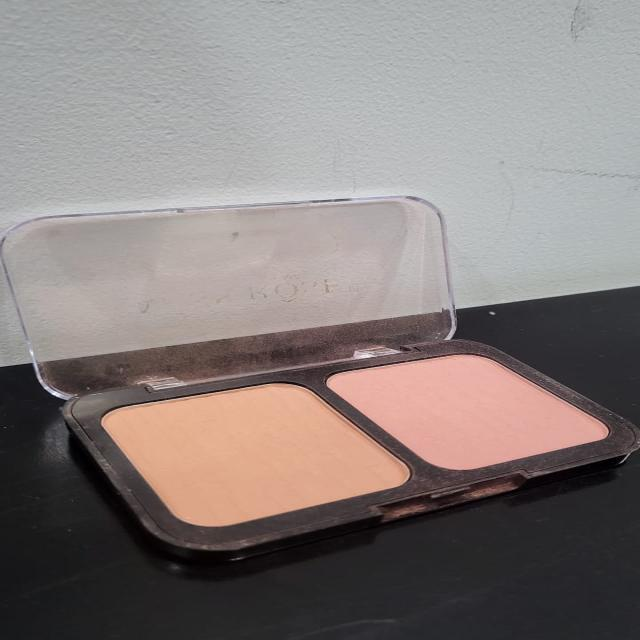blush: (344, 351, 622, 478)
powder: (98, 379, 362, 550)
